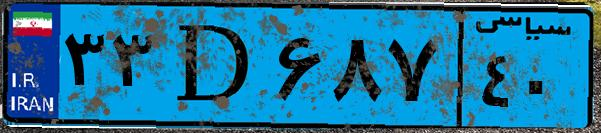0: (525, 38, 570, 115)
3: (57, 26, 110, 100), (110, 28, 158, 98)
4: (475, 38, 525, 113)
6: (270, 28, 330, 110)
7: (385, 28, 445, 110)
8: (330, 28, 385, 110)
D: (158, 12, 270, 120)
